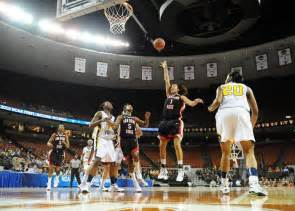basketball: (152, 37, 165, 50)
